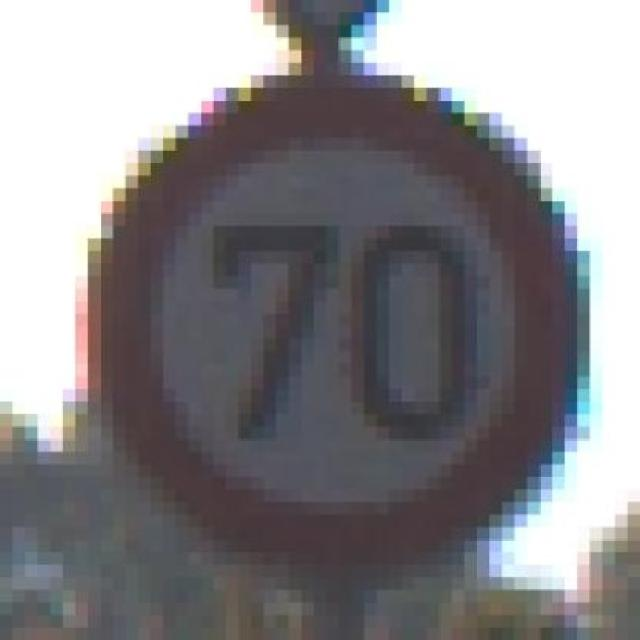forb_speed_over_70: (104, 83, 568, 568)
